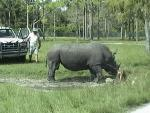rhino: (47, 42, 120, 81)
